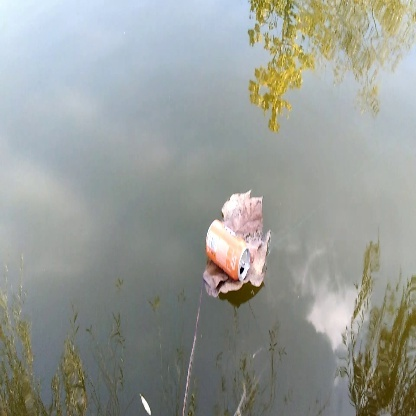bottle: (201, 214, 251, 279)
